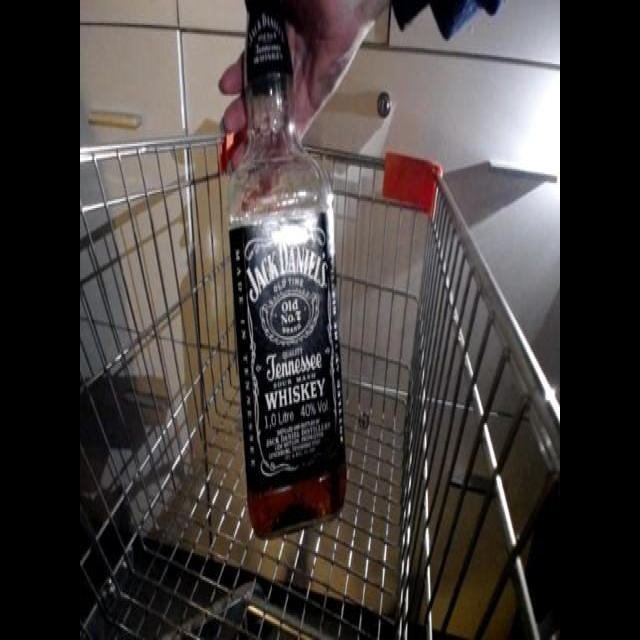Jack Daniels: (212, 1, 358, 548)
